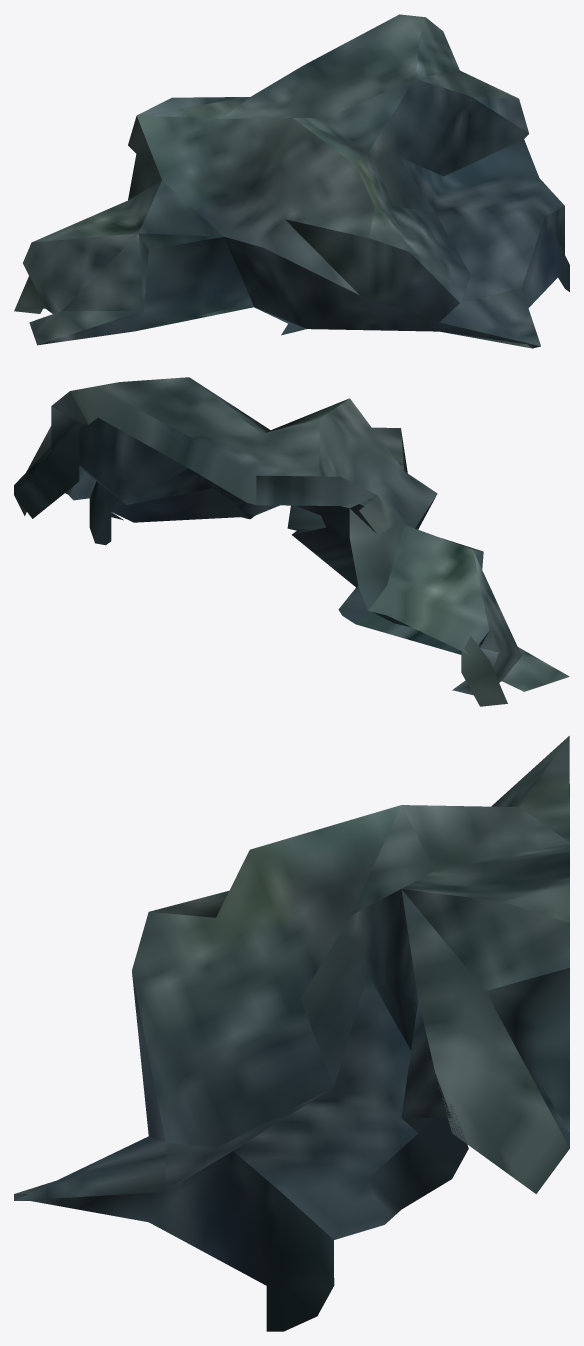
3 renders of one model, top to bottom at view 1: azimuth 30°, elevation 25°; view 2: azimuth 150°, elevation 25°; view 3: azimuth 270°, elevation 25°, orthographic. The views are drawn at different scales.
Parts seen in each view (by area): view 1: 30436272704370627515_0; view 2: 30436272704370627515_0; view 3: 30436272704370627515_0.
Boxes of the visible parts, box(x1,y1,x2,y2) form: 30436272704370627515_0: box(14, 14, 569, 348); 30436272704370627515_0: box(14, 377, 569, 706); 30436272704370627515_0: box(14, 736, 569, 1331).
Size of the model in its own units: 8.44 by 3.85 by 5.09.
Materials: 1 (1 with a texture image).
